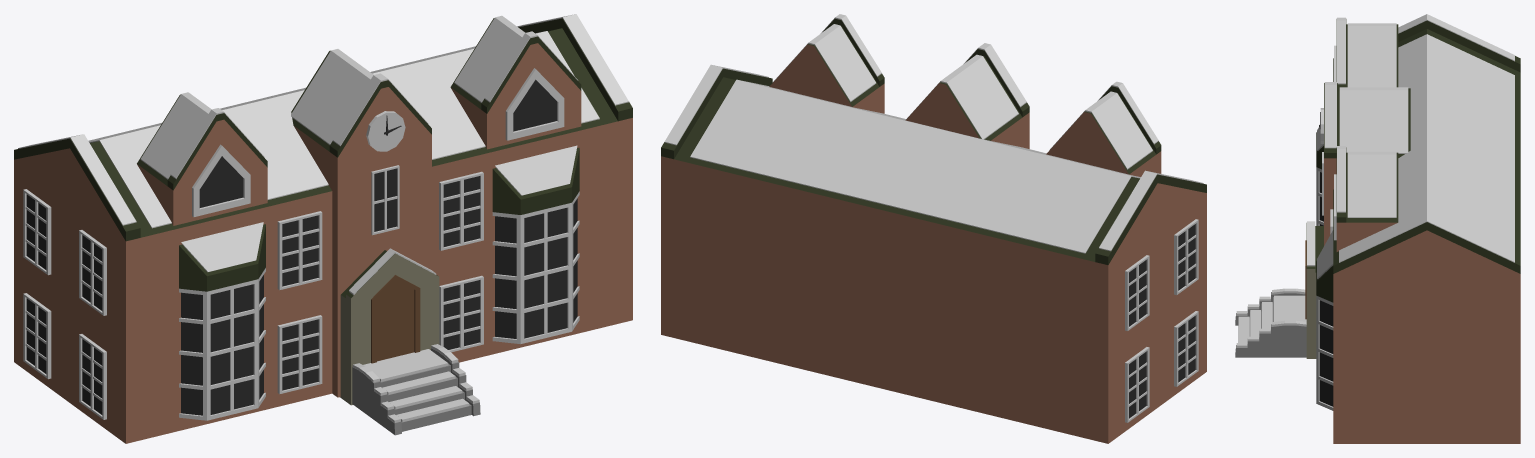
Rendered from University_snow_mat.fbx.
3 renders of one model, left to right at view 1: azimuth 30°, elevation 25°; view 2: azimuth 150°, elevation 25°; view 3: azimuth 270°, elevation 25°, orthographic. The views are drawn at different scales.
Visible parts, largest first — view 1: University_snow_mat; view 2: University_snow_mat; view 3: University_snow_mat.
Part boxes in pixels (x1,y1,x2,y2): University_snow_mat: (14, 14, 632, 443); University_snow_mat: (661, 14, 1206, 443); University_snow_mat: (1235, 14, 1520, 443).
Size of the model in its own units: 1303 by 745 by 748.
